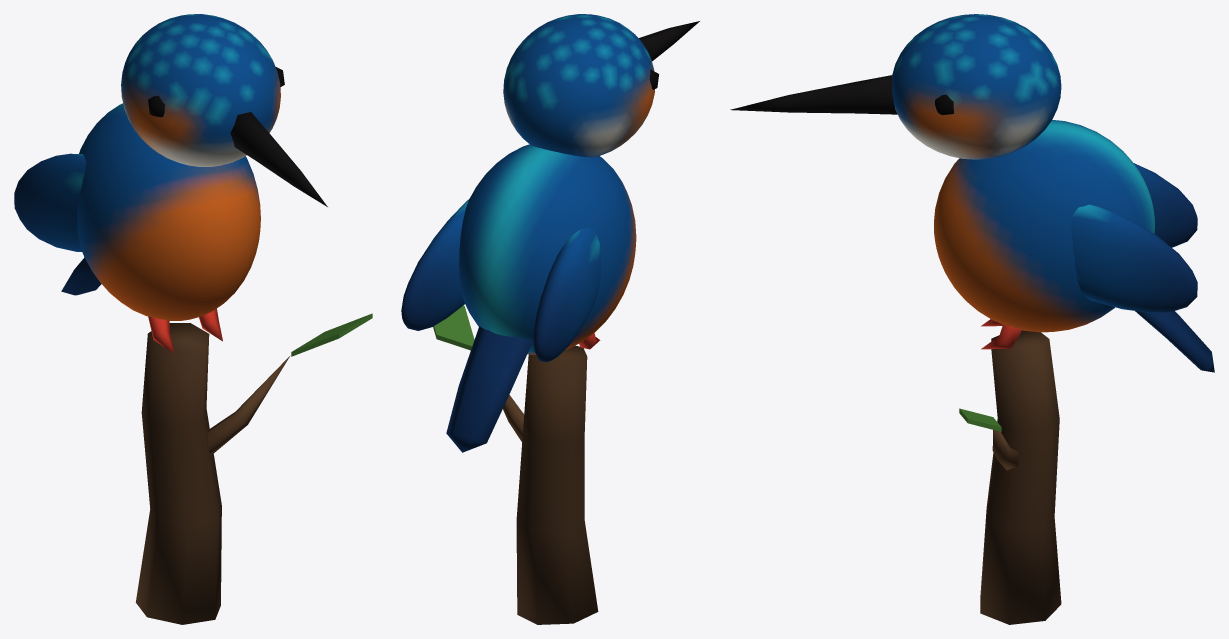
Rendered from CommonKingfisher.fbx.
3 views of the same model, side by side, from view 1: azimuth 30°, elevation 25°; view 2: azimuth 150°, elevation 25°; view 3: azimuth 270°, elevation 25° (orthographic). The views are drawn at different scales.
Visible parts, largest first — view 1: CommonKingfisher; view 2: CommonKingfisher; view 3: CommonKingfisher.
Part boxes in pixels (bbox=[...]): CommonKingfisher: bbox=[14, 14, 372, 624]; CommonKingfisher: bbox=[401, 14, 699, 624]; CommonKingfisher: bbox=[730, 14, 1214, 624].
Bounding box in the file's own units: 0.3251 × 0.759 × 0.57.
